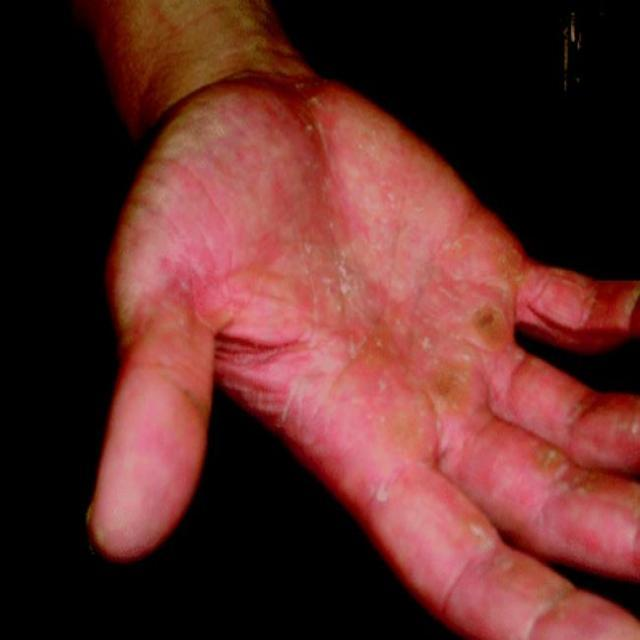Eczema: (116, 90, 509, 473)
